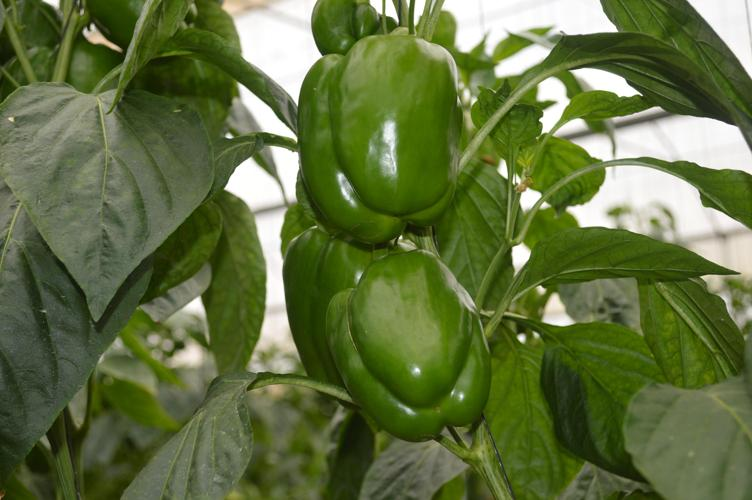BellPepper: (298, 35, 466, 238), (325, 249, 498, 427), (288, 229, 374, 383), (310, 2, 377, 49)
